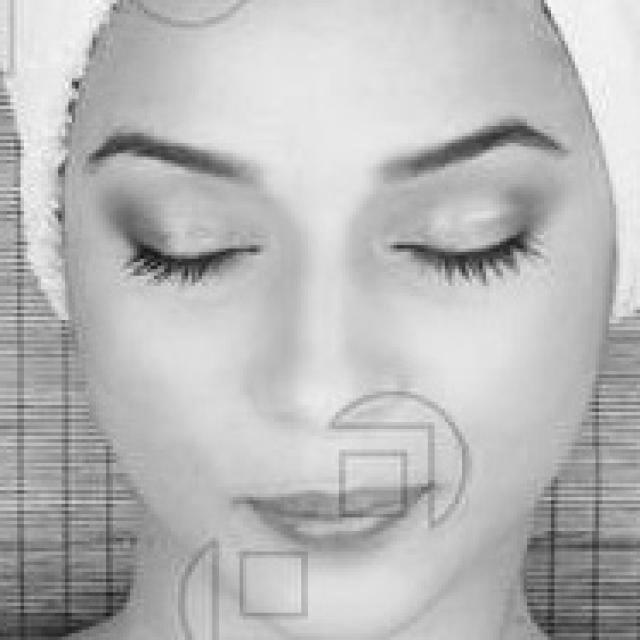real: (64, 0, 612, 640), (94, 194, 558, 296)
